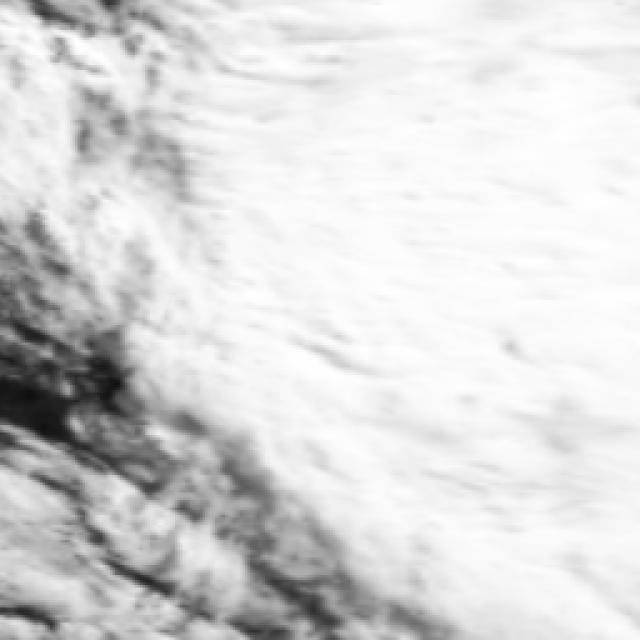CB: (350, 108, 640, 392)
